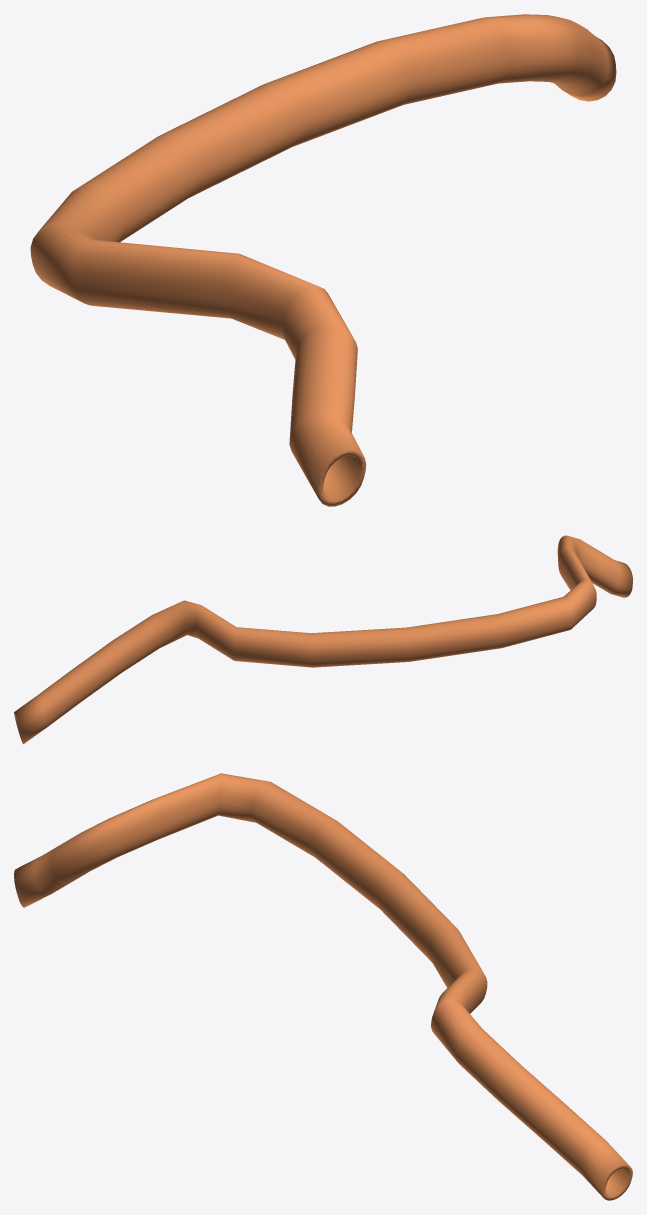
The model's file is CaveModel_test.fbx.
The picture shows the model from 3 angles, top to bottom: view 1: azimuth 30°, elevation 25°; view 2: azimuth 150°, elevation 25°; view 3: azimuth 270°, elevation 25°; orthographic projection. The views are drawn at different scales.
Visible parts, largest first — view 1: BézierCurve.002; view 2: BézierCurve.002; view 3: BézierCurve.002.
Boxes of the visible parts, x1,y1,x2,y2 form: BézierCurve.002: (30,14,616,506); BézierCurve.002: (14,535,632,744); BézierCurve.002: (14,773,632,1200).
Bounding box in the file's own units: 117 × 38.64 × 119.
